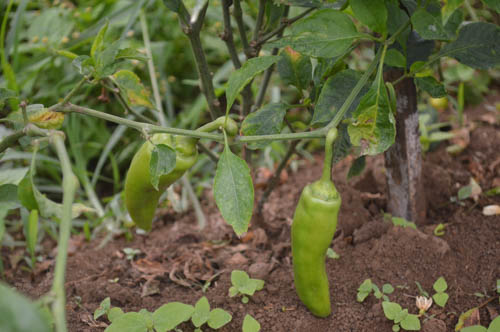ChiliPepper: (121, 135, 196, 231), (290, 186, 337, 321)
